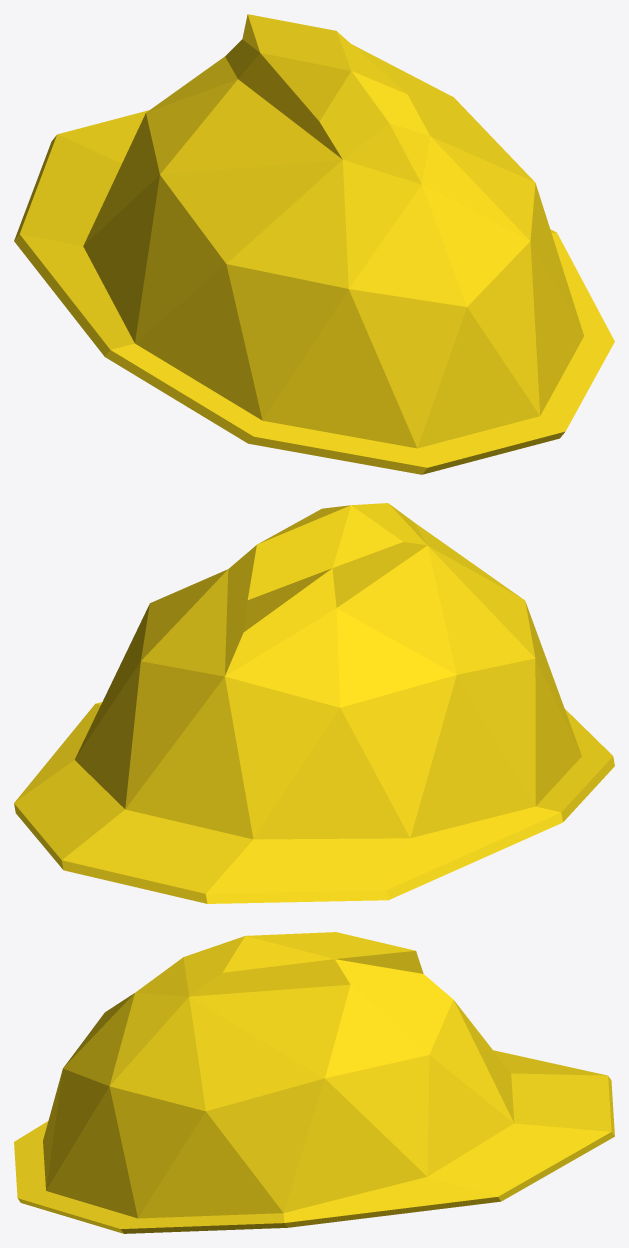
Rendered from working_helmet.glb.
3 renders of one model, top to bottom at view 1: azimuth 30°, elevation 25°; view 2: azimuth 150°, elevation 25°; view 3: azimuth 270°, elevation 25°, orthographic. The views are drawn at different scales.
Parts seen in each view (by area): view 1: Icosphere; view 2: Icosphere; view 3: Icosphere.
Boxes of the visible parts, x1,y1,x2,y2 form: Icosphere: (14, 14, 614, 474); Icosphere: (14, 503, 614, 903); Icosphere: (14, 932, 614, 1233).
Bounding box in the file's own units: 0.6198 × 0.3719 × 0.8514.
